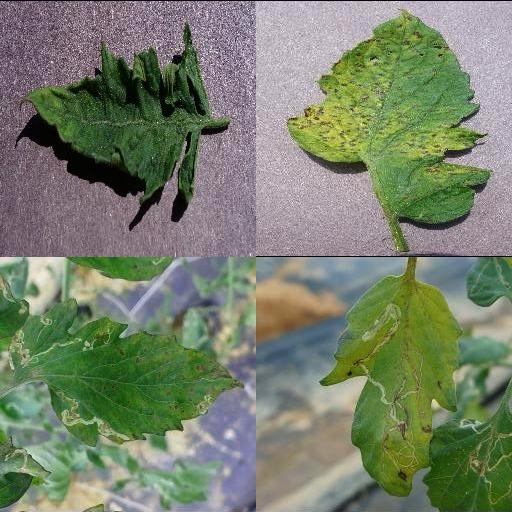Leaf Miner: (7, 297, 246, 447), (318, 275, 464, 497)
Mosaic Virus: (20, 20, 210, 208)
Septoria: (285, 10, 492, 224)
